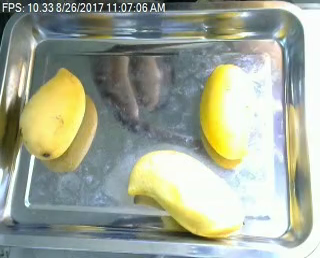Mango: (127, 148, 243, 240), (193, 62, 260, 162), (17, 64, 86, 160)
